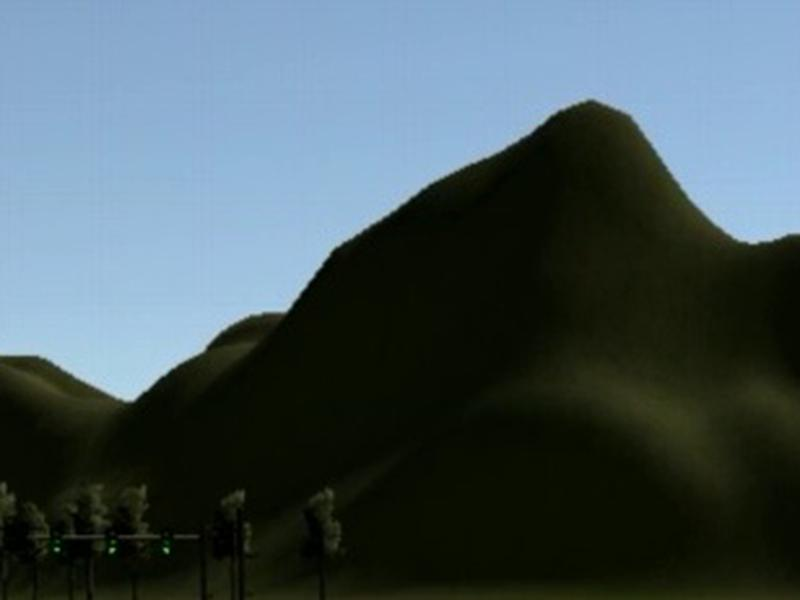Green: (107, 532, 118, 556), (161, 533, 172, 556), (52, 531, 61, 554)
